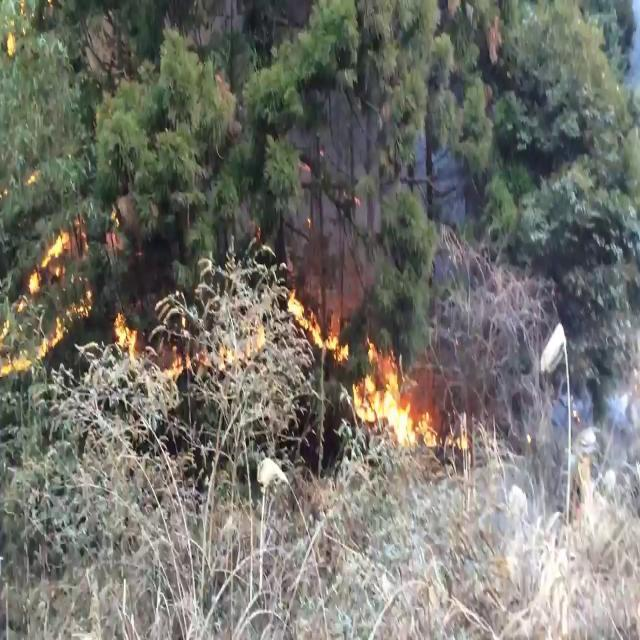Fire: (0, 217, 94, 376), (352, 333, 438, 448), (286, 282, 350, 363), (216, 319, 266, 368), (114, 310, 138, 364), (163, 350, 191, 380), (5, 30, 16, 57)
Smoke: (284, 88, 384, 318), (413, 133, 467, 281), (552, 386, 596, 433)
